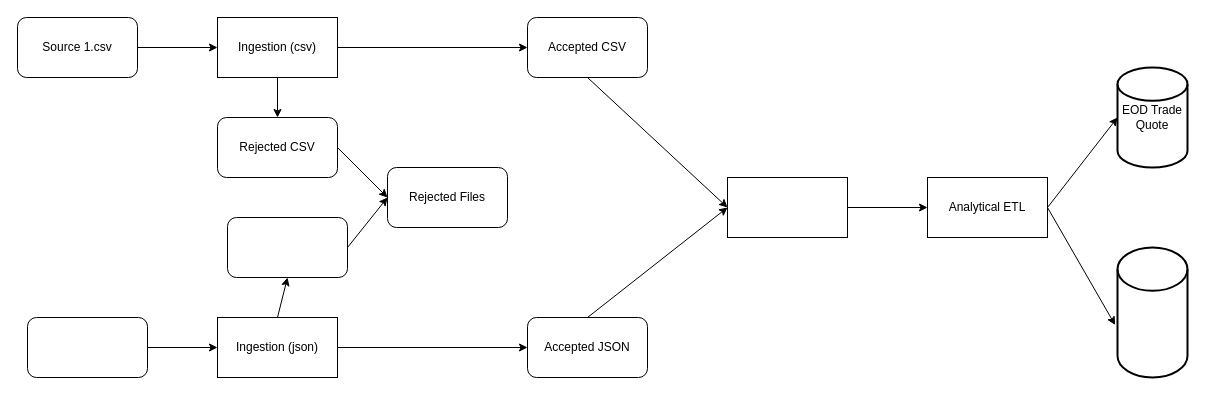
This 1206x396 diagram has some shape labels left out. Each missing label, with the box of its shape:
EOD Load (Accept): (726, 176, 848, 238)
Quote-Trade-Analytical: (1116, 246, 1188, 378)
Rejected JSON: (226, 216, 348, 278)
Source2.json: (26, 316, 148, 378)
